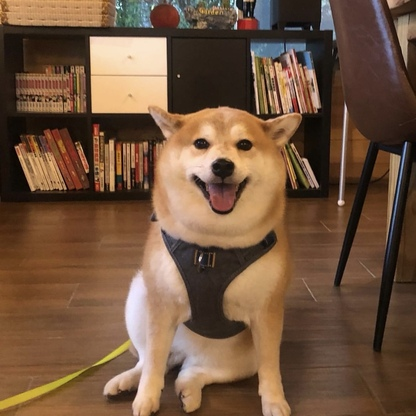shiba: (91, 101, 310, 416)
